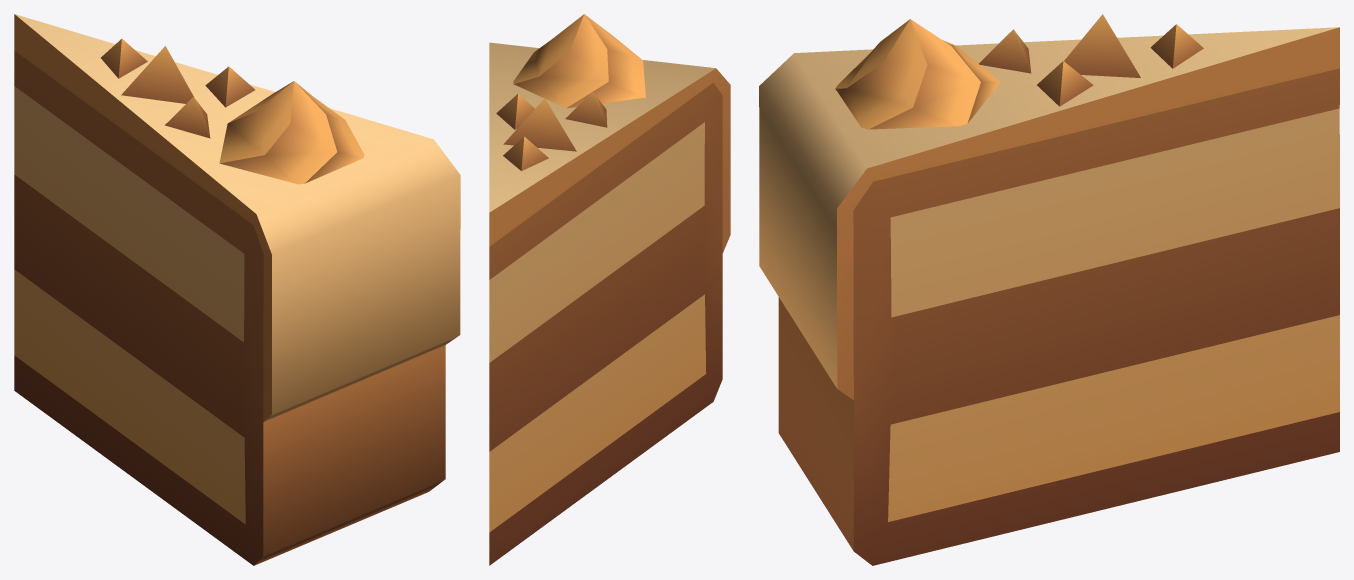
The model's file is m_WhiteChocolateCake01_Slice01.fbx.
3 renders of one model, left to right at view 1: azimuth 30°, elevation 25°; view 2: azimuth 150°, elevation 25°; view 3: azimuth 270°, elevation 25°, orthographic. The views are drawn at different scales.
Parts seen in each view (by area): view 1: m_WhiteChocolateCake01_Slice01; view 2: m_WhiteChocolateCake01_Slice01; view 3: m_WhiteChocolateCake01_Slice01.
Boxes of the visible parts, left/top/right/bottom form: m_WhiteChocolateCake01_Slice01: left=14, top=14, right=460, bottom=565; m_WhiteChocolateCake01_Slice01: left=489, top=14, right=730, bottom=565; m_WhiteChocolateCake01_Slice01: left=759, top=14, right=1339, bottom=565.
Bounding box in the file's own units: 7.24 × 13.27 × 14.48.
